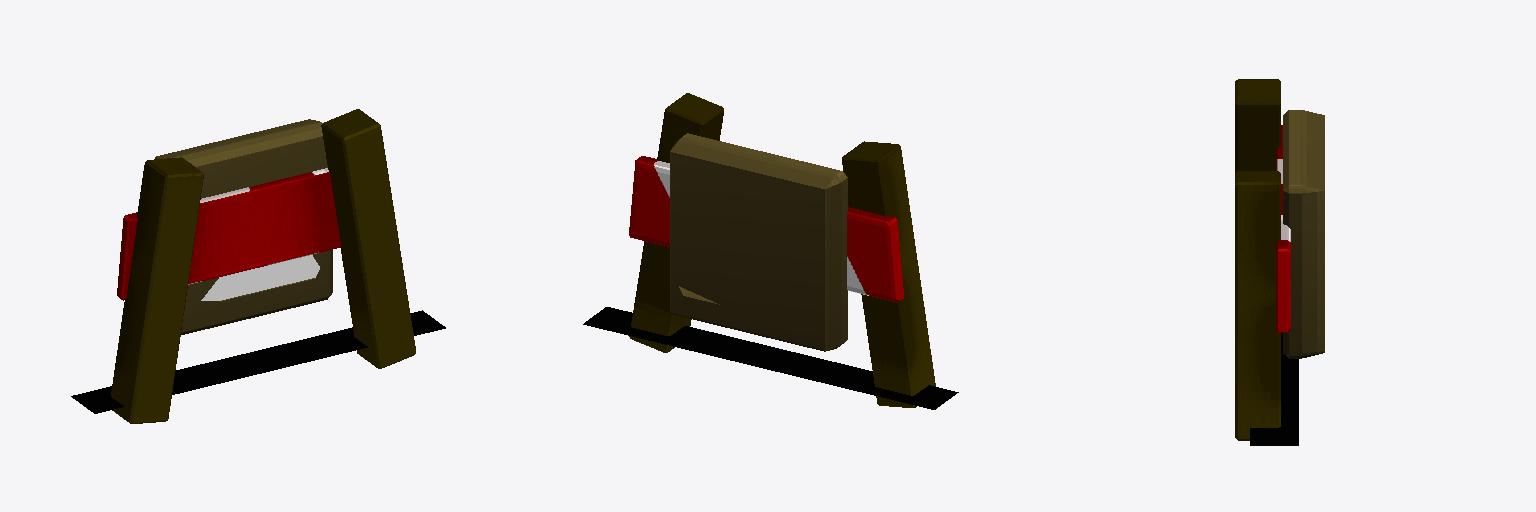
3 views of the same model, side by side, from view 1: azimuth 30°, elevation 25°; view 2: azimuth 150°, elevation 25°; view 3: azimuth 270°, elevation 25° (orthographic).
Visible parts, largest first — view 1: barrier2_Cube.147, barrierShapes.006_Cube.149, barrierShapes.005_Cube.148; view 2: barrierShapes.006_Cube.149, barrier2_Cube.147; view 3: barrier2_Cube.147, barrierShapes.006_Cube.149.
Part boxes in pixels (bbox=[...]): barrier2_Cube.147: bbox=[71, 109, 445, 423]; barrierShapes.006_Cube.149: bbox=[155, 119, 332, 334]; barrierShapes.005_Cube.148: bbox=[201, 255, 319, 300]; barrierShapes.006_Cube.149: bbox=[670, 133, 847, 351]; barrier2_Cube.147: bbox=[583, 93, 958, 409]; barrier2_Cube.147: bbox=[1235, 79, 1298, 445]; barrierShapes.006_Cube.149: bbox=[1283, 110, 1324, 358].
Size of the model in its own units: 2.6 by 1.74 by 0.571.
4 materials, 2 textured.